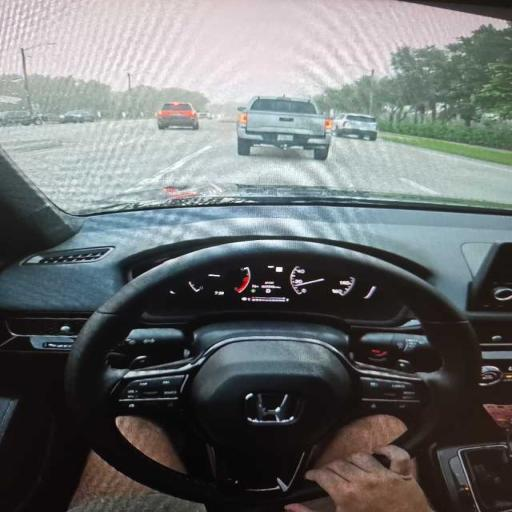car: (0, 0, 511, 511), (334, 114, 377, 141), (156, 103, 199, 129), (0, 111, 42, 126), (60, 110, 95, 123), (40, 113, 59, 123), (198, 112, 212, 119)
lane: (0, 120, 511, 211), (0, 121, 211, 210)
person: (285, 416, 431, 511)
truck: (237, 97, 332, 160)
